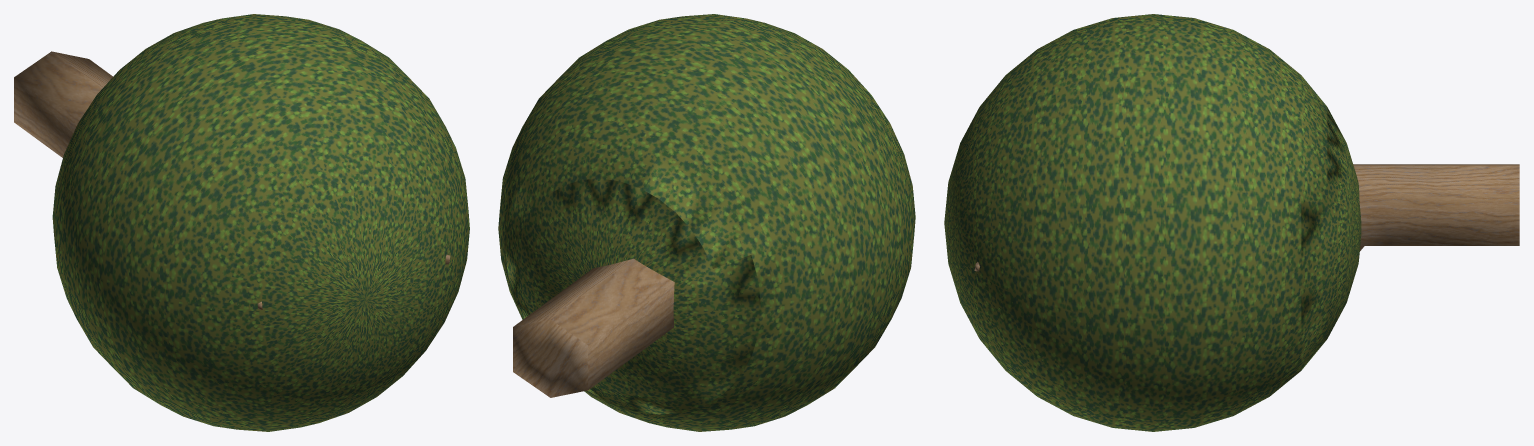
File: TreeClean.fbx
3 renders of one model, left to right at view 1: azimuth 30°, elevation 25°; view 2: azimuth 150°, elevation 25°; view 3: azimuth 270°, elevation 25°, orthographic.
Visible parts, largest first — view 1: Object.001, Cube.005; view 2: Object.001, Cube.005; view 3: Object.001, Cube.005.
Boxes of the visible parts, <box> form: Object.001: <box>52,14,469,431</box>; Cube.005: <box>14,51,450,309</box>; Object.001: <box>498,14,915,431</box>; Cube.005: <box>513,258,674,397</box>; Object.001: <box>944,14,1361,431</box>; Cube.005: <box>974,164,1519,271</box>.
Size of the model in its own units: 964 by 964 by 1326.
Materials: 2 (2 with a texture image).
